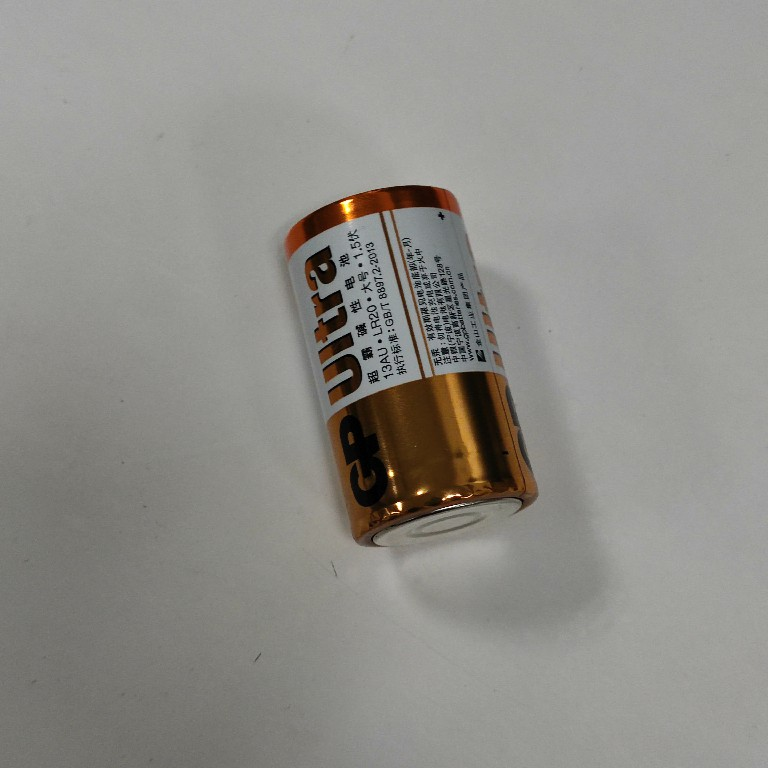charge: (280, 181, 542, 554)
